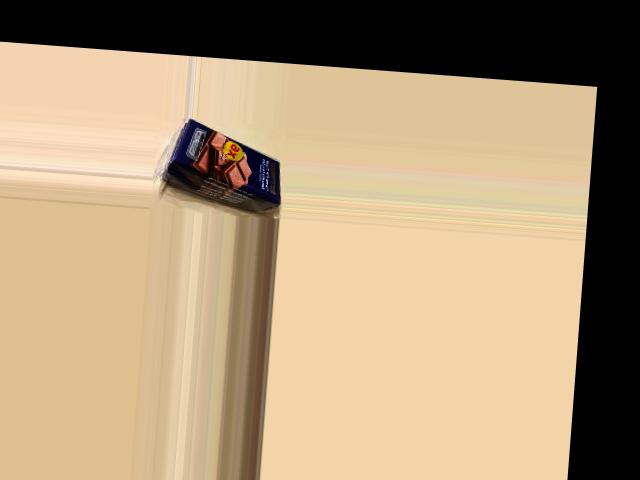chocolate: (168, 116, 286, 212)
